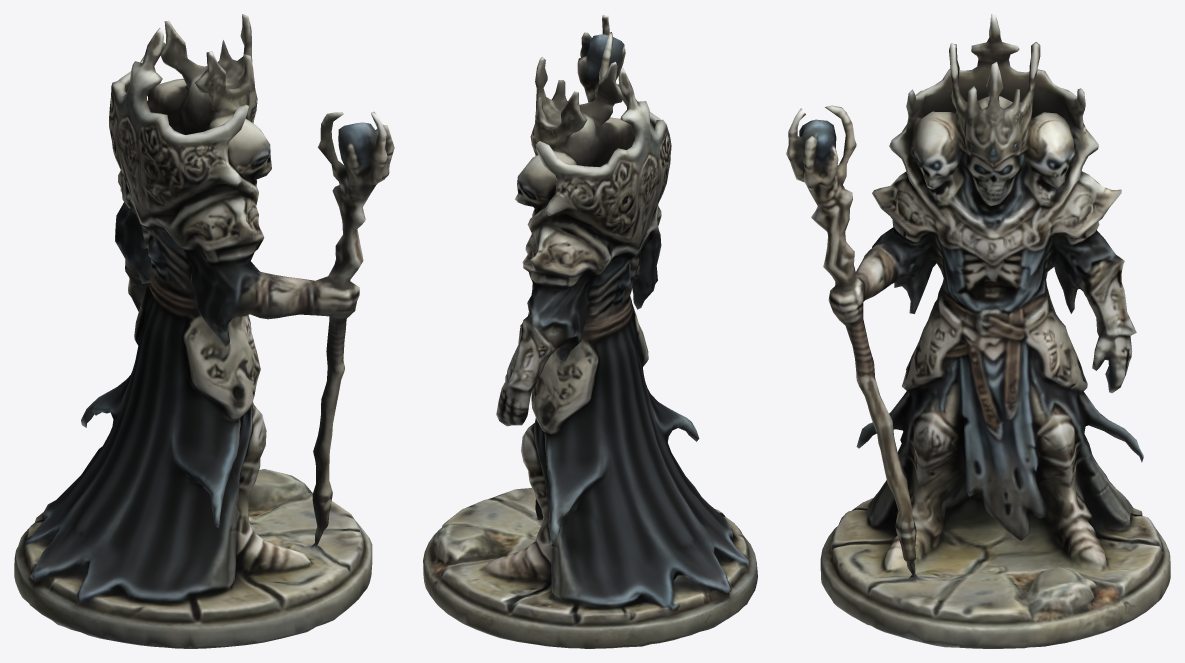
Rendered from skulllord.glb.
3 views of the same model, side by side, from view 1: azimuth 30°, elevation 25°; view 2: azimuth 150°, elevation 25°; view 3: azimuth 270°, elevation 25° (orthographic). The views are drawn at different scales.
Visible parts, largest first — view 1: lagrange_node; view 2: lagrange_node; view 3: lagrange_node.
Part boxes in pixels (box(x1,y1,x2,y2)): lagrange_node: box(14, 14, 394, 648); lagrange_node: box(423, 14, 757, 648); lagrange_node: box(786, 14, 1170, 648).
Size of the model in its own units: 1.18 by 2.01 by 1.28.
Materials: 1 (1 with a texture image).
